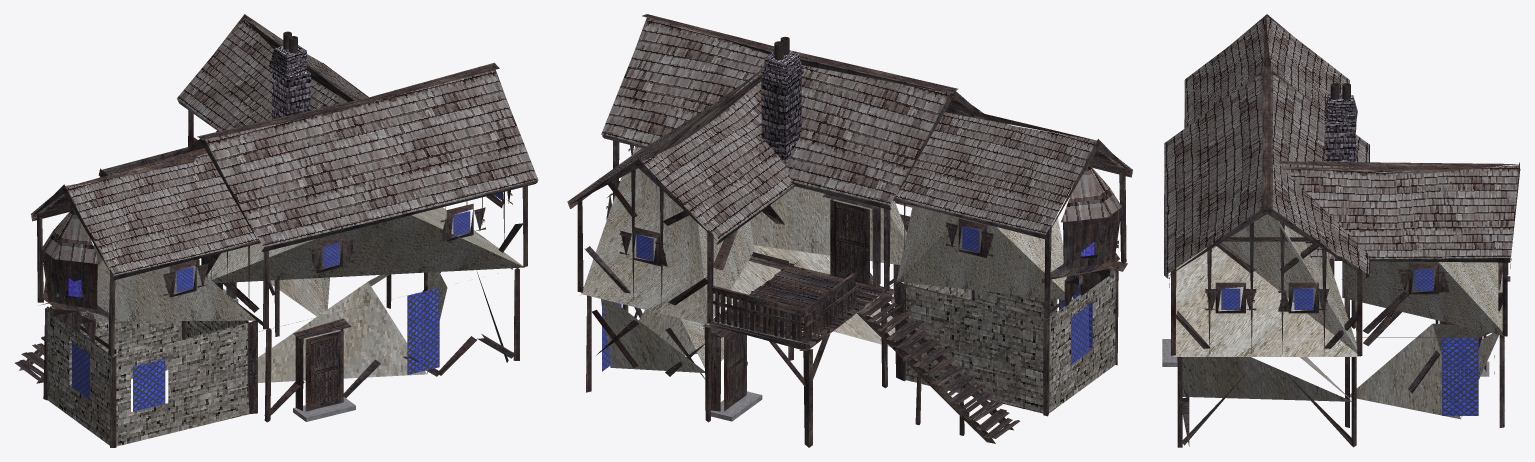
File: oga_house_2.glb
3 renders of one model, left to right at view 1: azimuth 30°, elevation 25°; view 2: azimuth 150°, elevation 25°; view 3: azimuth 270°, elevation 25°, orthographic. The views are drawn at different scales.
Parts seen in each view (by area): view 1: oga_house_2; view 2: oga_house_2; view 3: oga_house_2.
Boxes of the visible parts, box(x1,y1,x2,y2) form: oga_house_2: box(15, 14, 538, 447); oga_house_2: box(567, 14, 1132, 447); oga_house_2: box(1162, 14, 1520, 447).
Size of the model in its own units: 13.49 by 8.87 by 9.53.
11 materials, 11 textured.
